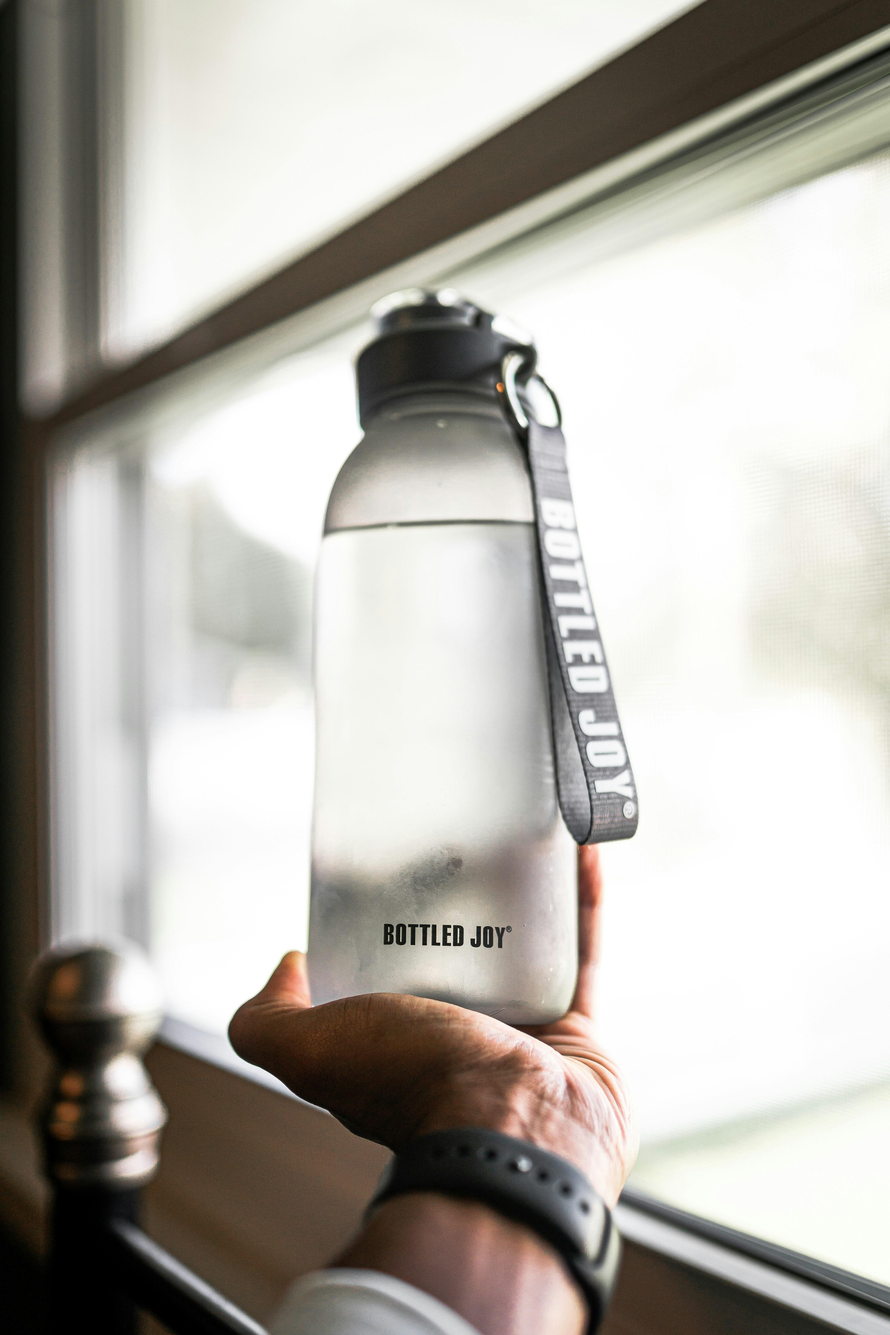Bottle-Detection: (222, 230, 682, 1050)
